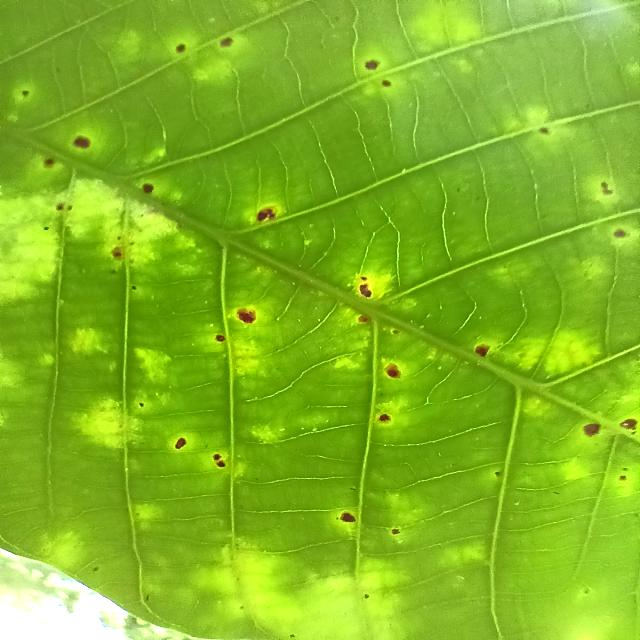Colletotrichum: (238, 308, 256, 324), (257, 208, 277, 222), (73, 136, 91, 149), (358, 284, 373, 299), (584, 423, 600, 437), (620, 418, 638, 430), (387, 365, 402, 378), (474, 344, 490, 356), (174, 438, 188, 450), (601, 181, 613, 195), (220, 37, 234, 48), (341, 512, 356, 522), (366, 60, 379, 70), (142, 184, 155, 194), (359, 314, 371, 323), (614, 229, 626, 238), (379, 414, 391, 422), (538, 126, 550, 134), (44, 158, 54, 167), (176, 44, 187, 52), (112, 250, 123, 258), (216, 460, 226, 468), (382, 79, 391, 87), (213, 452, 222, 460), (216, 335, 226, 342), (392, 528, 401, 534), (620, 475, 628, 481), (56, 204, 64, 210), (21, 90, 30, 95), (360, 276, 369, 281), (364, 593, 370, 599), (622, 467, 629, 471), (139, 403, 145, 407), (43, 227, 50, 230), (132, 286, 137, 290), (495, 471, 500, 475)
